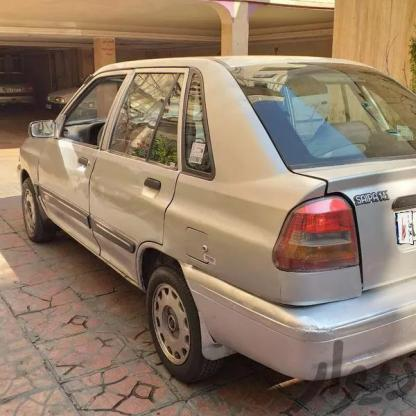Car: (18, 50, 416, 401), (44, 86, 98, 112), (0, 71, 38, 105)
